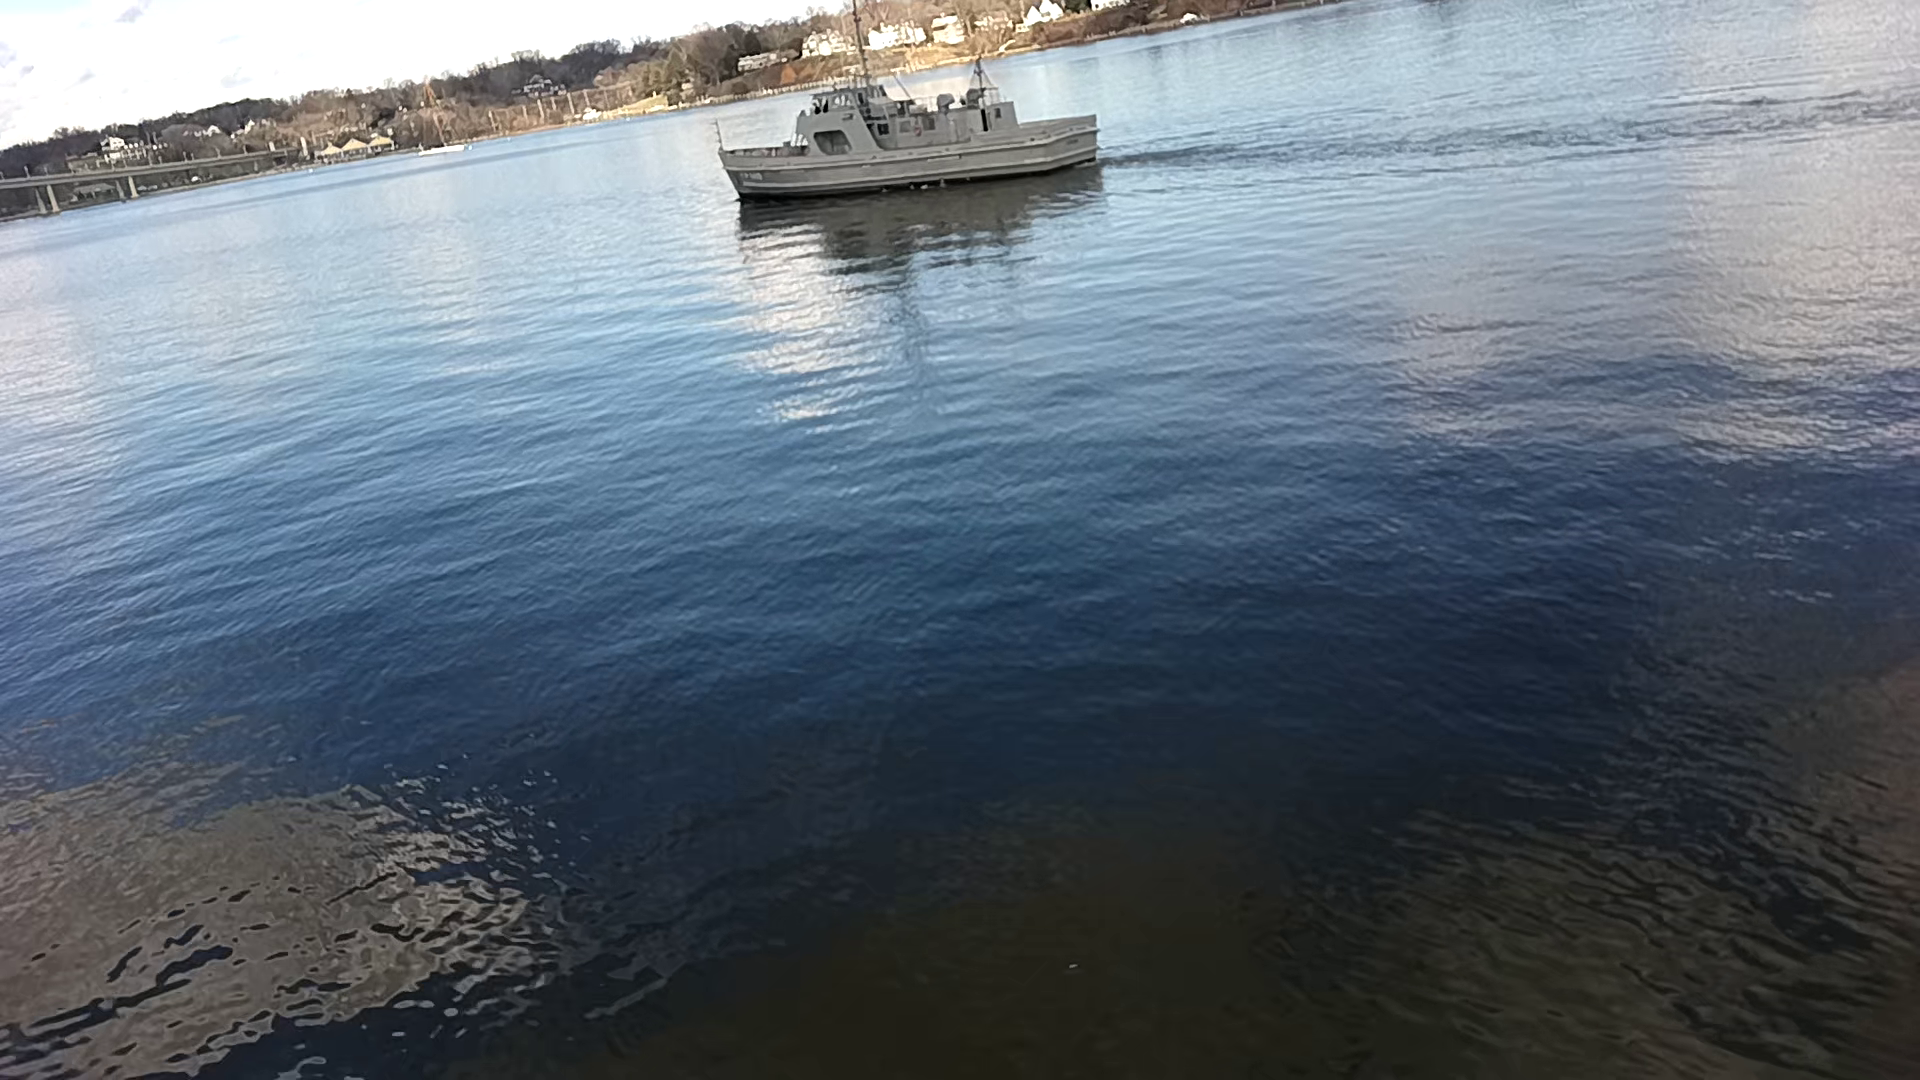YP689: (716, 0, 1100, 200)
